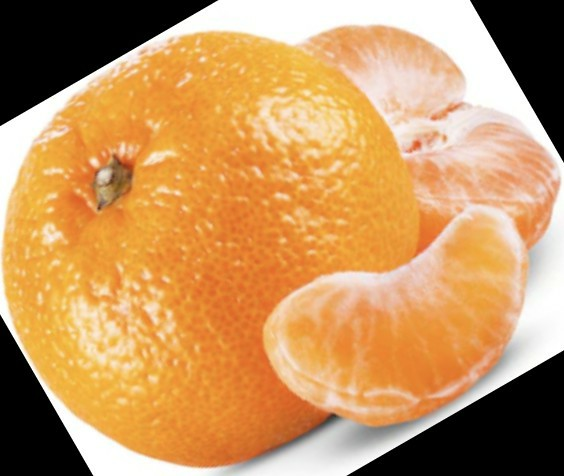fresh_orange: (9, 32, 432, 466)
